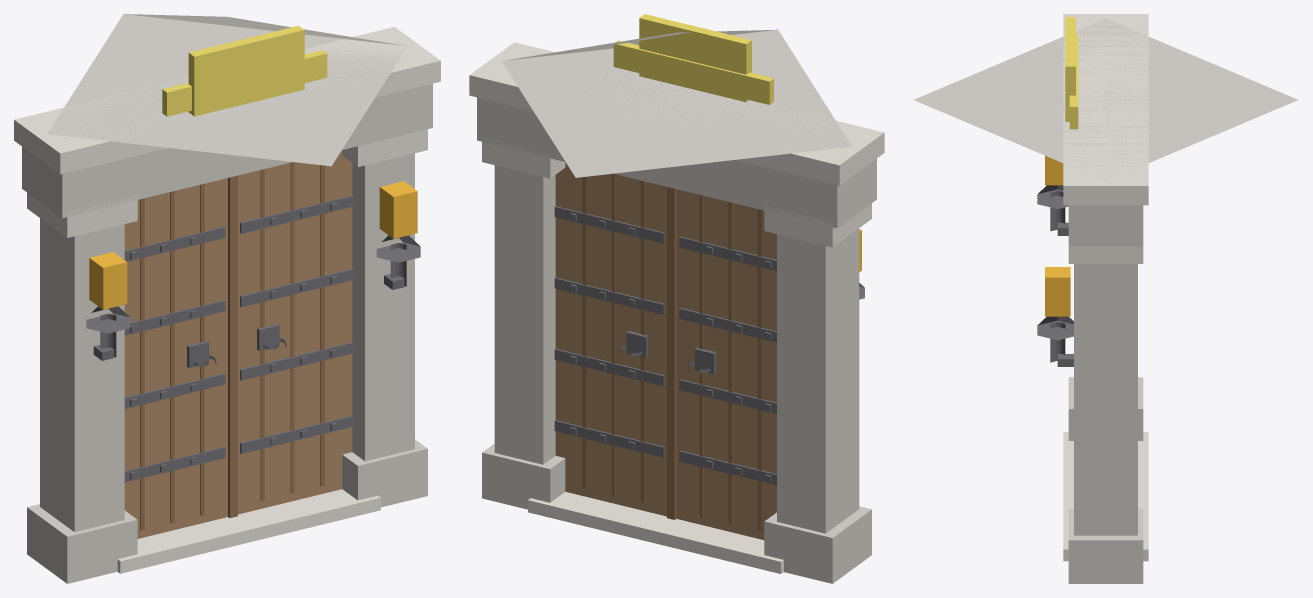
Rendered from door.gltf.
3 views of the same model, side by side, from view 1: azimuth 30°, elevation 25°; view 2: azimuth 150°, elevation 25°; view 3: azimuth 270°, elevation 25° (orthographic). The views are drawn at different scales.
Parts seen in each view (by area): view 1: Zelda_Exit_Door_Geometry; view 2: Zelda_Exit_Door_Geometry; view 3: Zelda_Exit_Door_Geometry.
Part boxes in pixels (x1,y1,x2,y2): Zelda_Exit_Door_Geometry: [14, 14, 440, 583]; Zelda_Exit_Door_Geometry: [469, 14, 884, 583]; Zelda_Exit_Door_Geometry: [914, 14, 1297, 583].
Size of the model in its own units: 3.8 by 4.85 by 3.6.
